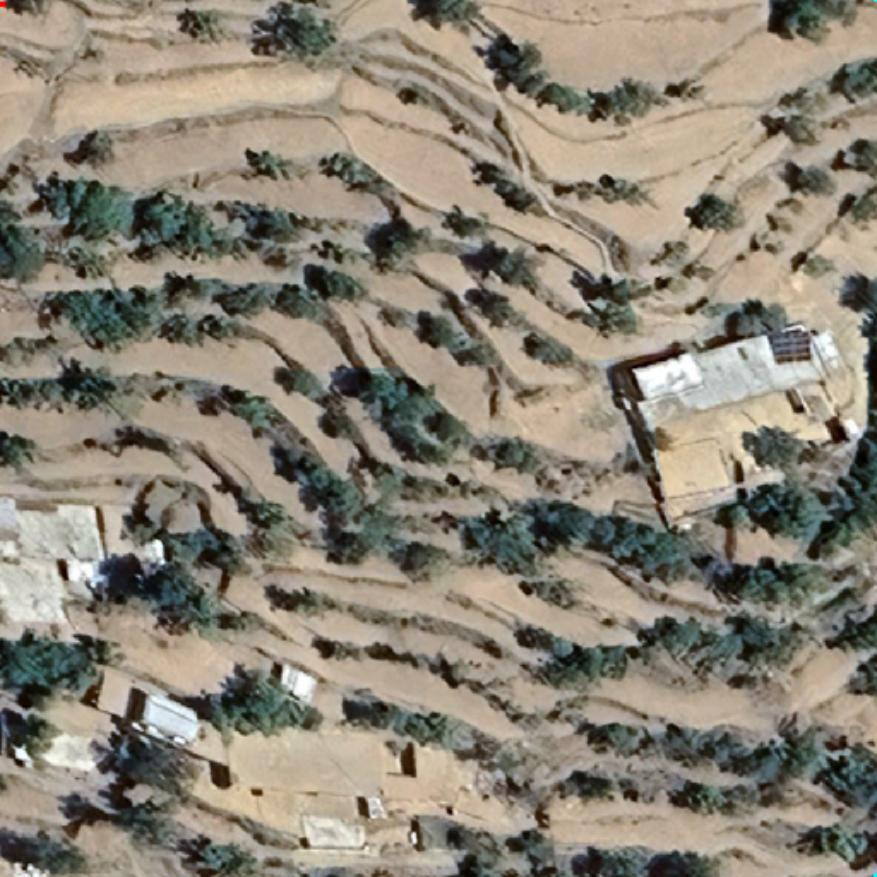Solarpanel: (764, 325, 818, 367)
